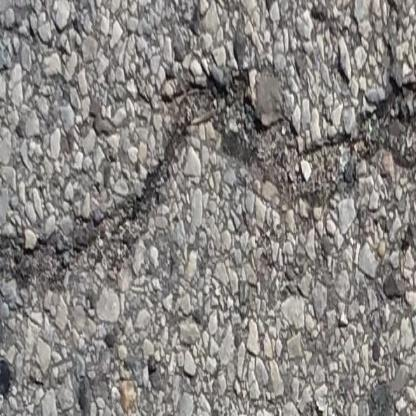Cracks: (0, 66, 416, 327)
